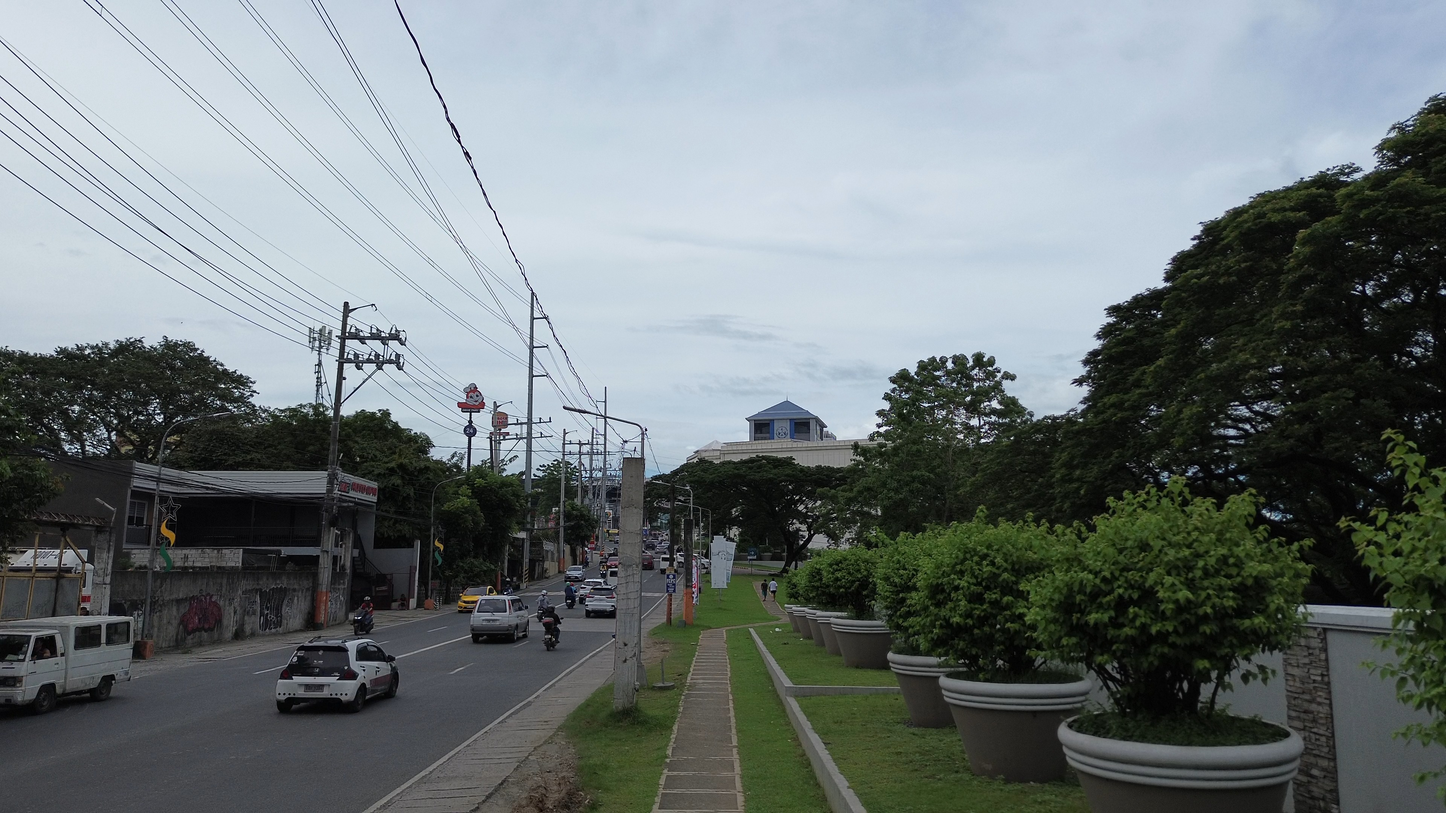car: (276, 637, 399, 712), (564, 565, 586, 582)
motorcycle: (542, 618, 558, 650), (351, 613, 374, 635), (566, 595, 576, 609)
vehicle: (0, 616, 133, 713), (469, 596, 530, 642), (585, 586, 616, 617), (456, 587, 487, 612), (578, 579, 607, 605), (351, 612, 374, 636), (641, 553, 654, 569)
